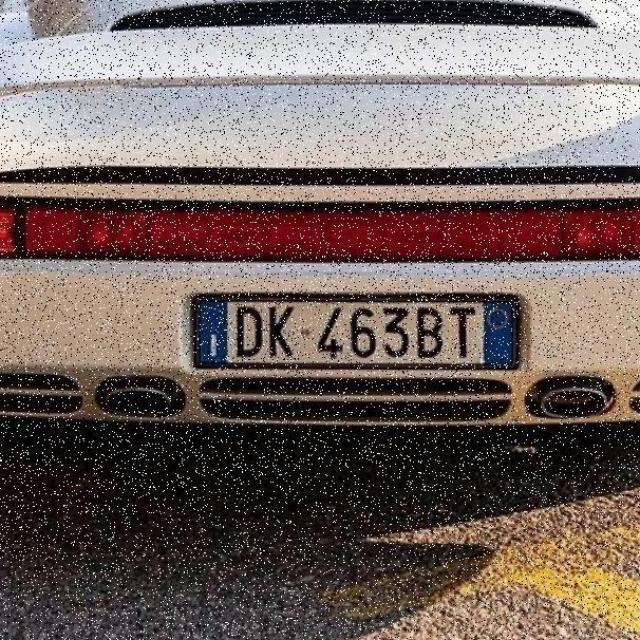license_plate: (182, 291, 526, 381)
